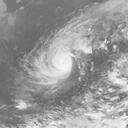cyclone: (22, 44, 73, 84)
